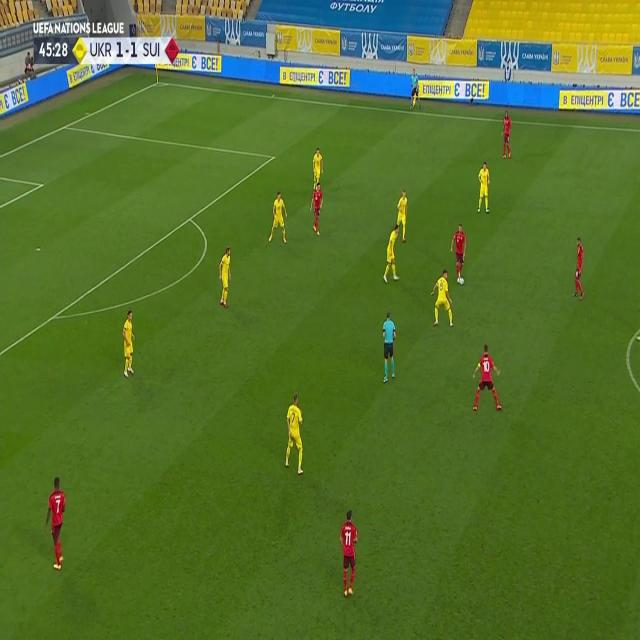player: (43, 474, 67, 574), (471, 342, 503, 412), (338, 508, 359, 600), (283, 391, 305, 476), (430, 269, 454, 329), (267, 191, 289, 245), (381, 310, 397, 383), (120, 308, 136, 378), (449, 222, 467, 284), (382, 221, 400, 283), (217, 246, 233, 308), (571, 234, 586, 300), (476, 160, 492, 214), (394, 188, 408, 245), (311, 180, 323, 237), (310, 146, 324, 194), (500, 109, 512, 160), (408, 69, 421, 111)
